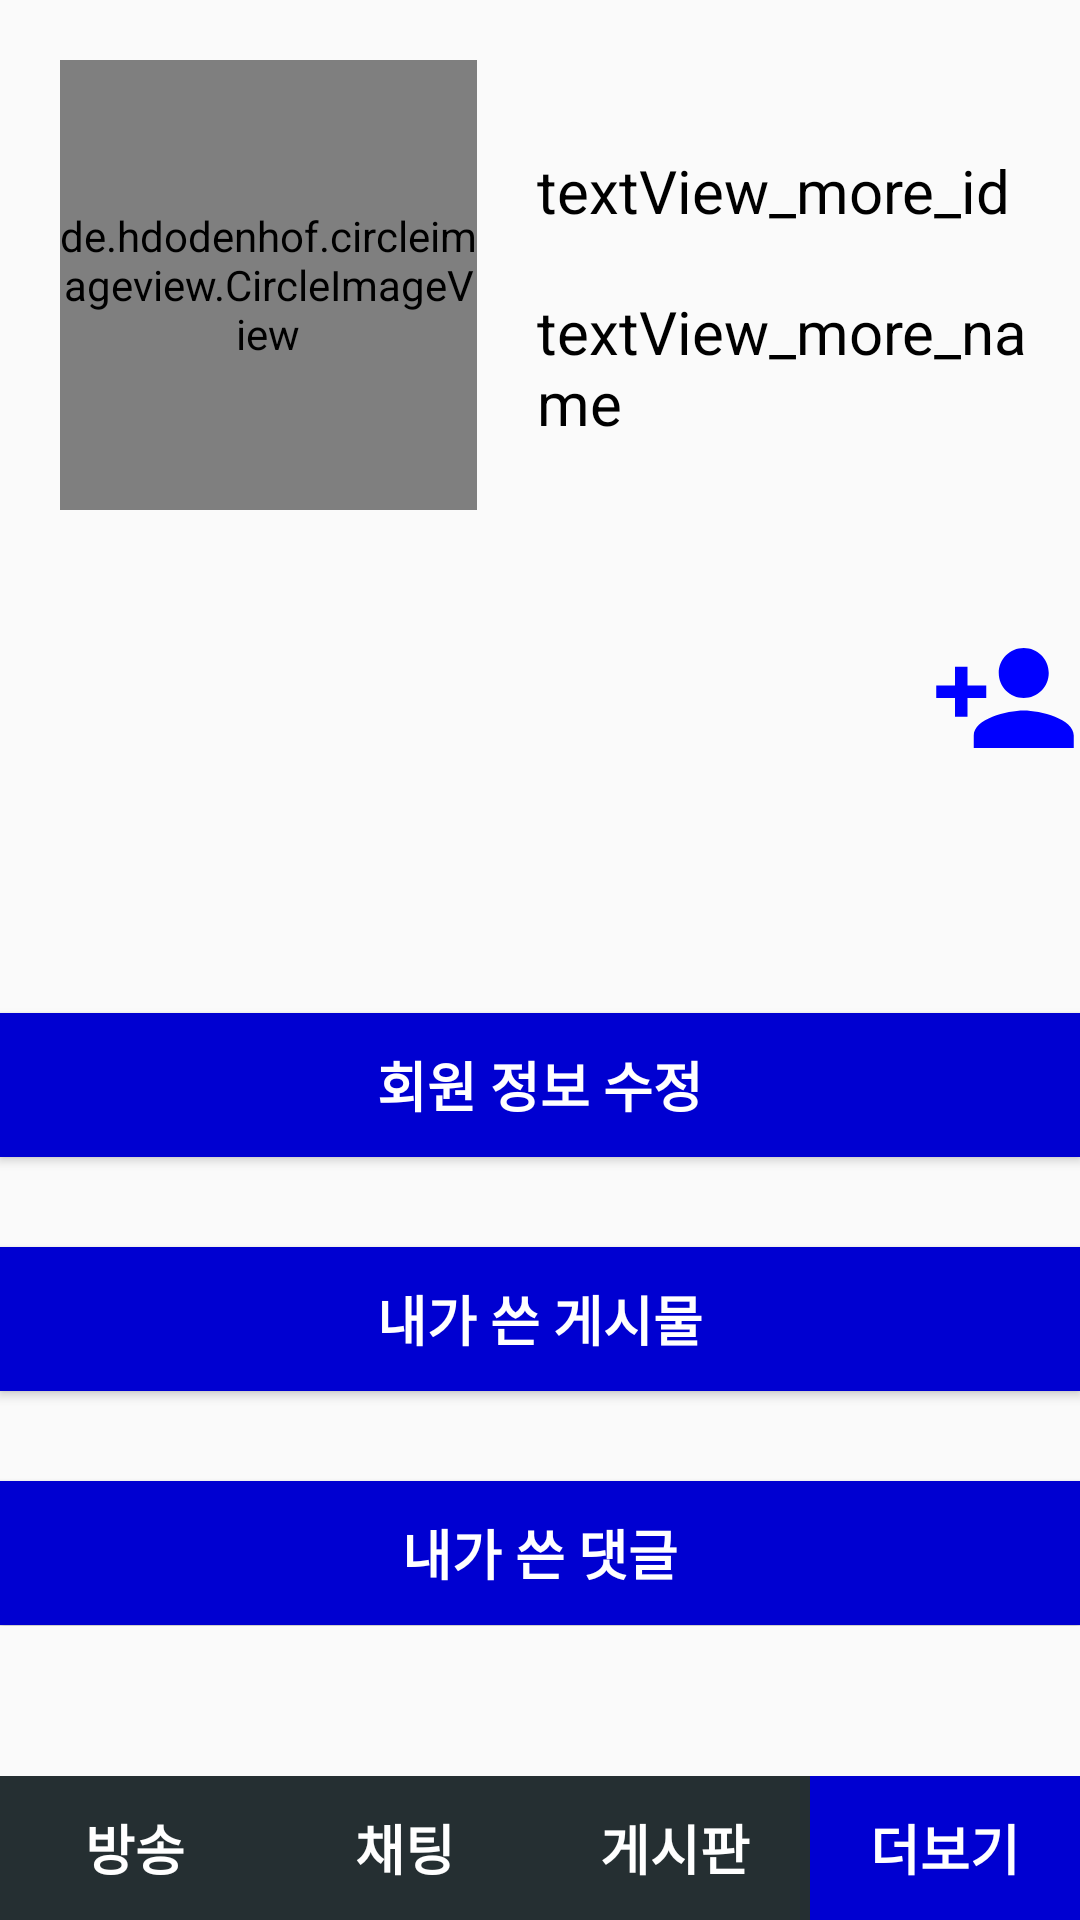

Icon click points for this 1080x1920 phone screenshot, format (x,y):
person add: (1005,698)
